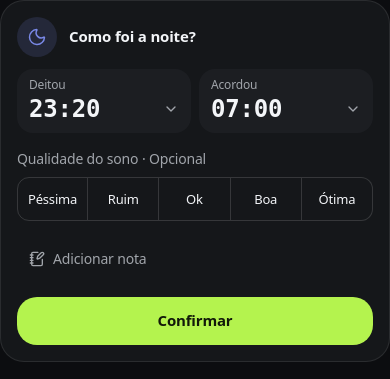
Test case: HomeSleepCard › saves today in one tap and turns into the summary of the night
Expected: the heading "Como foi a noite?" is shown, 69,27 -> 196,47
Step 1. Click the button "Confirmar" → [195, 321], box 17,297 -> 373,345
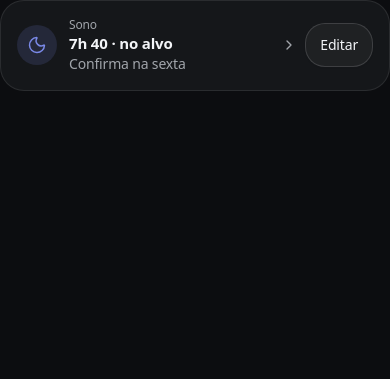
Result: the text "7h 40 · no alvo" is shown at 69,33 -> 172,53
Result: the text "Confirma na sexta" is shown at 69,54 -> 186,73
Result: the button "Editar" is shown at 305,23 -> 373,67
